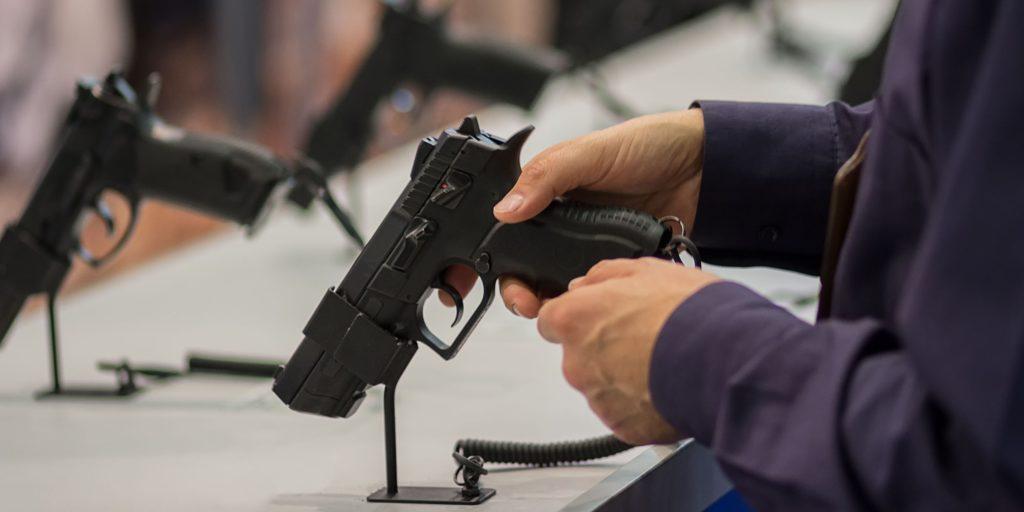pistol: (239, 51, 730, 478)
